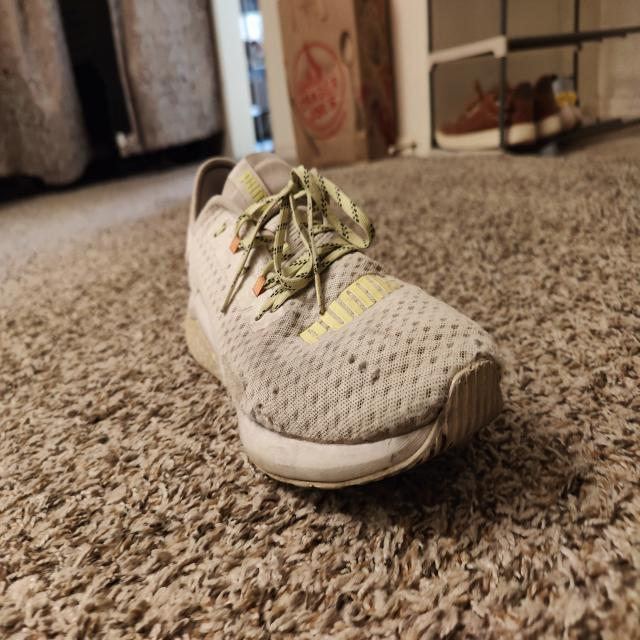white shoes: (230, 199, 372, 380)
